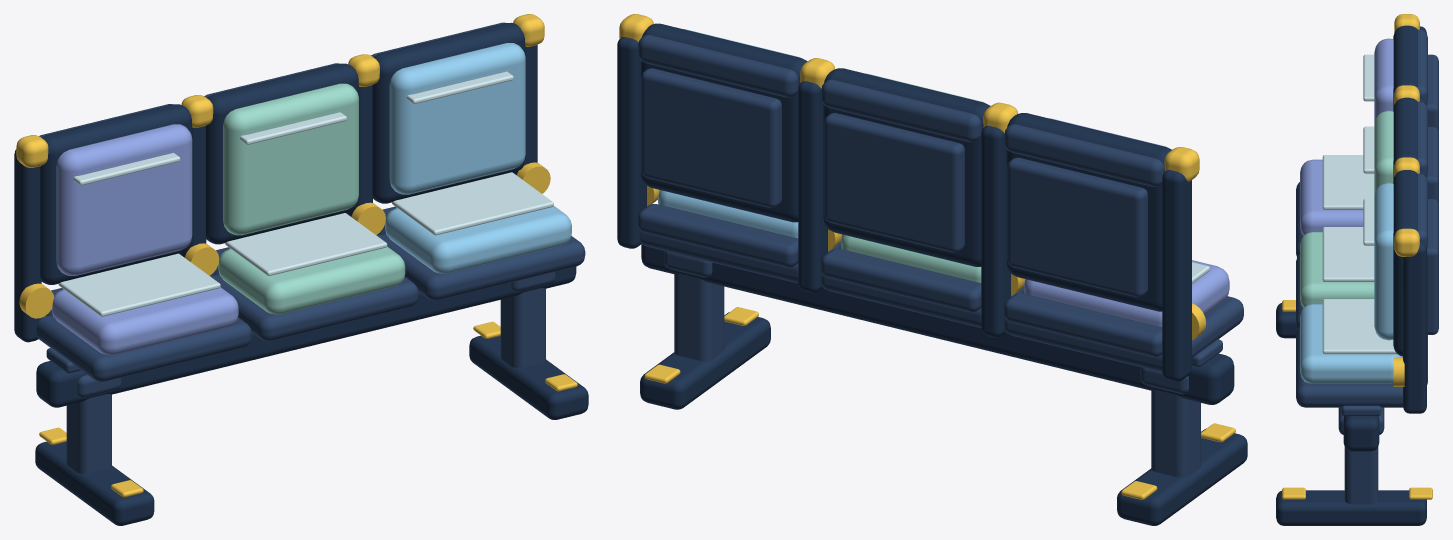
Rendered from waiting-chair.glb.
The picture shows the model from 3 angles, left to right: view 1: azimuth 30°, elevation 25°; view 2: azimuth 150°, elevation 25°; view 3: azimuth 270°, elevation 25°; orthographic projection. The views are drawn at different scales.
Visible parts, largest first — view 1: backrest-1-surface-2, backrest-3-surface-2, backrest-2-surface-2, shared-support-beam-surface-0, seat-2-surface-2, seat-3-surface-2, seat-1-surface-2, backrest-3-surface-0, backrest-2-surface-0, backrest-1-surface-0, seat-1-surface-0, seat-3-surface-4 (+24 smaller); view 2: finished-rear-frame-surface-12, finished-rear-frame-surface-24, finished-rear-frame-surface-18, shared-support-beam-surface-0, backrest-2-surface-0, backrest-3-surface-0, backrest-1-surface-0, finished-rear-frame-surface-0, finished-rear-frame-surface-2, finished-rear-frame-surface-4, finished-rear-frame-surface-6, finished-rear-frame-surface-16 (+18 smaller); view 3: two-floor-legs-surface-12, seat-3-surface-2, finished-rear-frame-surface-6, seat-3-surface-4, backrest-3-surface-2, seat-3-surface-0, seat-2-surface-4, seat-1-surface-4, seat-2-surface-2, backrest-3-surface-0, seat-1-surface-2, two-floor-legs-surface-10 (+26 smaller).
Boxes of the visible parts, bbox=[...] form: backrest-1-surface-2: bbox=[56, 124, 192, 275]; backrest-3-surface-2: bbox=[389, 43, 525, 194]; backrest-2-surface-2: bbox=[223, 83, 358, 235]; shared-support-beam-surface-0: bbox=[36, 266, 576, 407]; seat-2-surface-2: bbox=[218, 246, 405, 314]; seat-3-surface-2: bbox=[385, 206, 571, 273]; seat-1-surface-2: bbox=[51, 287, 238, 355]; backrest-3-surface-0: bbox=[372, 22, 525, 203]; backrest-2-surface-0: bbox=[206, 63, 358, 244]; backrest-1-surface-0: bbox=[40, 104, 192, 284]; seat-1-surface-0: bbox=[36, 315, 251, 381]; seat-3-surface-4: bbox=[392, 172, 553, 235]; finished-rear-frame-surface-12: bbox=[1007, 157, 1147, 297]; finished-rear-frame-surface-24: bbox=[641, 68, 781, 207]; finished-rear-frame-surface-18: bbox=[824, 113, 964, 252]; shared-support-beam-surface-0: bbox=[641, 244, 1234, 404]; backrest-2-surface-0: bbox=[823, 68, 990, 266]; backrest-3-surface-0: bbox=[641, 23, 807, 222]; backrest-1-surface-0: bbox=[1006, 113, 1171, 311]; finished-rear-frame-surface-0: bbox=[1162, 170, 1191, 381]; finished-rear-frame-surface-2: bbox=[981, 126, 1010, 337]; finished-rear-frame-surface-4: bbox=[798, 81, 827, 292]; finished-rear-frame-surface-6: bbox=[617, 37, 646, 248]; finished-rear-frame-surface-16: bbox=[821, 248, 981, 312]; two-floor-legs-surface-12: bbox=[1276, 490, 1426, 525]; seat-3-surface-2: bbox=[1300, 304, 1402, 383]; finished-rear-frame-surface-6: bbox=[1403, 241, 1426, 413]; seat-3-surface-4: bbox=[1322, 299, 1397, 354]; backrest-3-surface-2: bbox=[1374, 182, 1393, 340]; seat-3-surface-0: bbox=[1296, 326, 1403, 407]; seat-2-surface-4: bbox=[1322, 227, 1374, 281]; seat-1-surface-4: bbox=[1322, 155, 1374, 209]; seat-2-surface-2: bbox=[1300, 232, 1374, 307]; backrest-3-surface-0: bbox=[1393, 170, 1417, 356]; seat-1-surface-2: bbox=[1300, 159, 1363, 235]; two-floor-legs-surface-10: bbox=[1344, 447, 1378, 504].
Bounding box in the file's own units: 1.75 × 1.08 × 0.5276.
